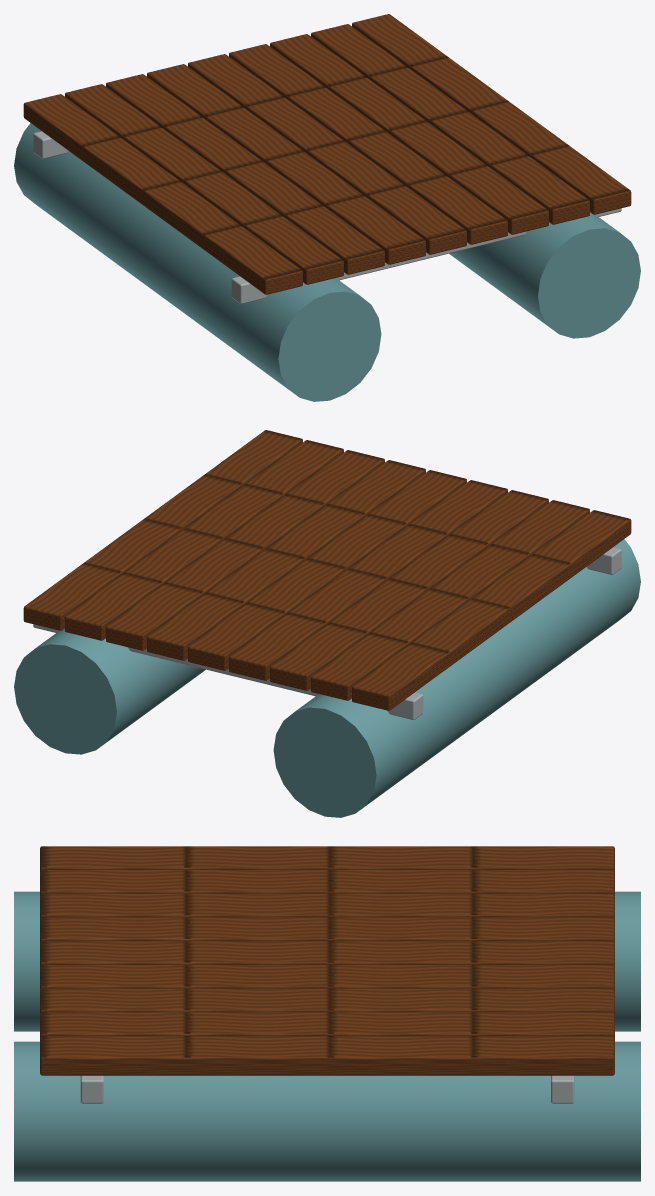
The model's file is flooded-and-coastal-survival-pontoon-dock-5b5094f5__20046.glb.
3 views of the same model, one above another, from view 1: azimuth 30°, elevation 25°; view 2: azimuth 150°, elevation 25°; view 3: azimuth 270°, elevation 25° (orthographic). The views are drawn at different scales.
Parts seen in each view (by area): view 1: pontoon-dock; view 2: pontoon-dock; view 3: pontoon-dock.
Boxes of the visible parts, box(x1,y1,x2,y2) form: pontoon-dock: box(14, 14, 640, 401); pontoon-dock: box(14, 430, 640, 817); pontoon-dock: box(14, 846, 640, 1181).
Size of the model in its own units: 2 by 0.63 by 2.4.
3 materials, 1 textured.
